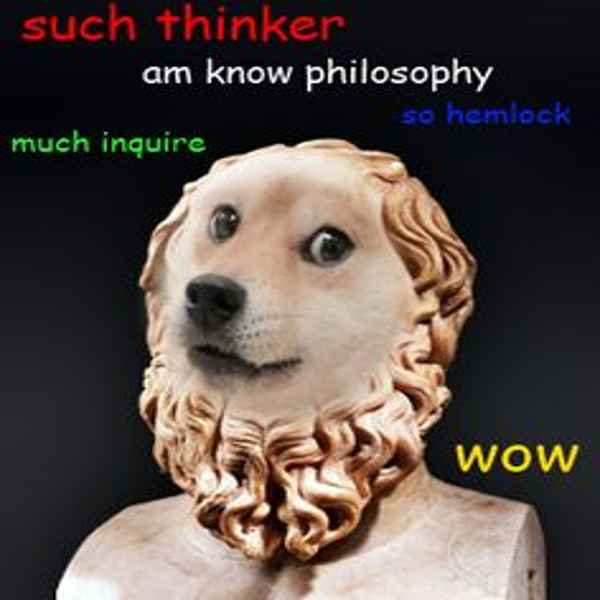doge: (153, 140, 417, 430)
